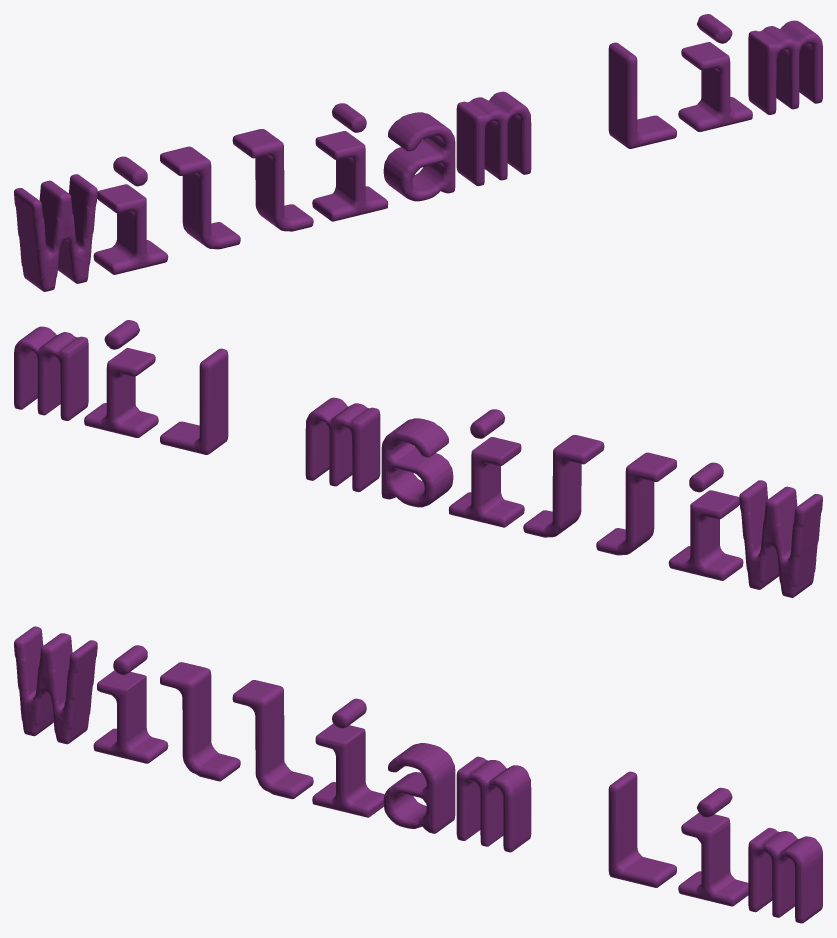
File: name.obj
3 views of the same model, one above another, from view 1: azimuth 30°, elevation 25°; view 2: azimuth 150°, elevation 25°; view 3: azimuth 330°, elevation 25° (orthographic).
Parts seen in each view (by area): view 1: Text, Text.008, Text.011, Text.005, Text.009, Text.004, Text.001, Text.002, Text.003, Text.010, Text.006, Text.007 (+1 smaller); view 2: Text, Text.008, Text.011, Text.005, Text.009, Text.004, Text.001, Text.002, Text.003, Text.010, Text.006, Text.007 (+1 smaller); view 3: Text, Text.008, Text.011, Text.005, Text.002, Text.003, Text.009, Text.004, Text.001, Text.010, Text.006, Text.007 (+1 smaller).
Part boxes in pixels (x1,y1,x2,y2): Text: [14, 174, 97, 291]; Text.008: [456, 91, 531, 186]; Text.011: [748, 20, 822, 114]; Text.005: [383, 112, 455, 201]; Text.009: [608, 42, 676, 148]; Text.004: [312, 131, 388, 221]; Text.001: [93, 184, 168, 274]; Text.002: [160, 146, 240, 249]; Text.003: [232, 129, 313, 231]; Text.010: [678, 42, 752, 131]; Text.006: [113, 156, 147, 186]; Text.007: [332, 103, 366, 132]; Text: [739, 480, 822, 597]; Text.008: [305, 397, 380, 492]; Text.011: [14, 326, 88, 420]; Text.005: [381, 418, 453, 507]; Text.009: [160, 348, 228, 454]; Text.004: [448, 437, 524, 527]; Text.001: [668, 490, 743, 580]; Text.002: [596, 452, 676, 555]; Text.003: [523, 435, 604, 537]; Text.010: [84, 348, 158, 437]; Text.006: [689, 462, 723, 492]; Text.007: [470, 409, 504, 438]; Text: [14, 626, 97, 744]; Text.008: [456, 756, 531, 852]; Text.011: [748, 827, 822, 923]; Text.005: [383, 743, 455, 833]; Text.002: [160, 662, 240, 781]; Text.003: [232, 680, 313, 799]; Text.009: [608, 771, 676, 887]; Text.004: [312, 723, 384, 817]; Text.001: [93, 670, 168, 763]; Text.010: [678, 813, 748, 906]; Text.006: [113, 645, 147, 674]; Text.007: [332, 698, 366, 728].
Size of the model in its own units: 4.93 by 0.5924 by 0.2397.
